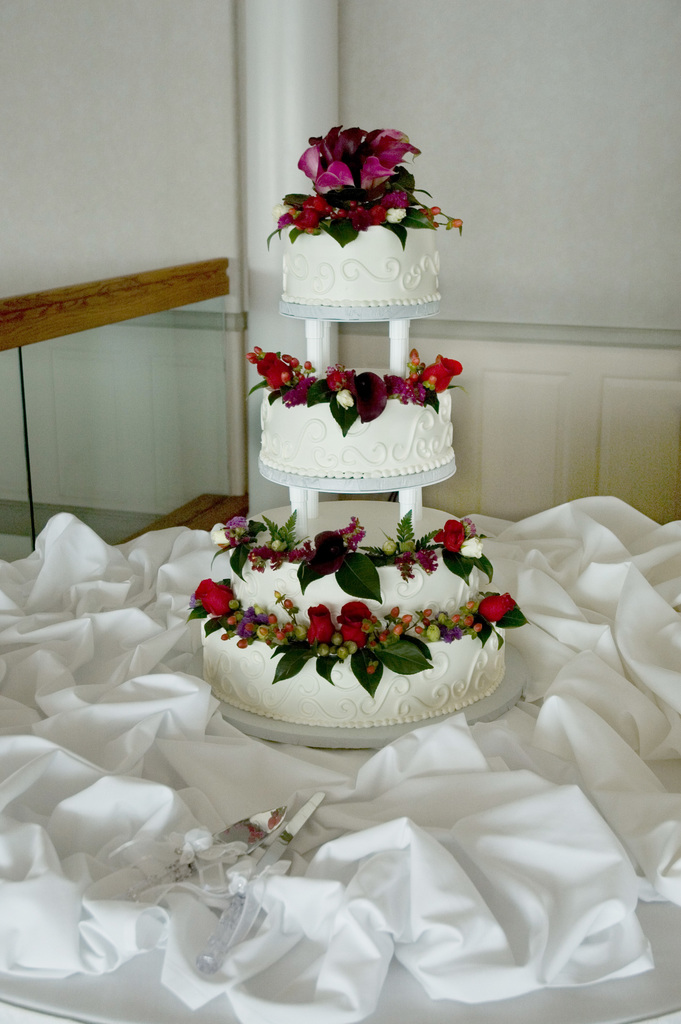cake: (196, 118, 513, 715)
